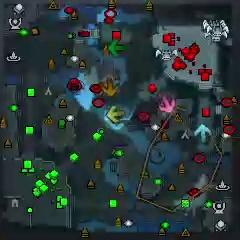x1: (159, 96, 177, 113)
x2: (107, 106, 124, 123)
x3: (195, 124, 211, 143)
x4: (108, 40, 128, 58)
x5: (101, 78, 119, 95)
